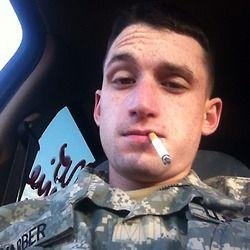cigarette: (148, 132, 172, 166)
